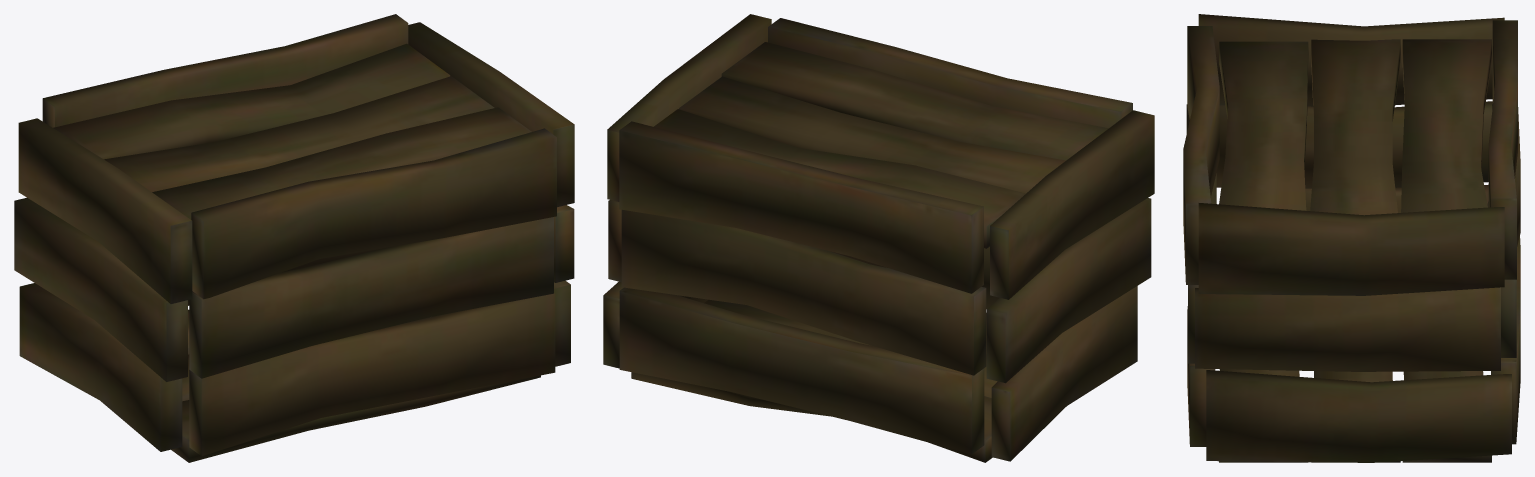
File: woodcrate.glb
3 renders of one model, left to right at view 1: azimuth 30°, elevation 25°; view 2: azimuth 150°, elevation 25°; view 3: azimuth 270°, elevation 25°, orthographic. The views are drawn at different scales.
Parts seen in each view (by area): view 1: SM_WoodCrate; view 2: SM_WoodCrate; view 3: SM_WoodCrate.
Part boxes in pixels (left/top/right/bottom): SM_WoodCrate: left=14, top=14, right=574, bottom=462; SM_WoodCrate: left=603, top=14, right=1154, bottom=462; SM_WoodCrate: left=1183, top=14, right=1520, bottom=462.
Bounding box in the file's own units: 0.6496 × 0.3912 × 0.4467.
1 material, 1 textured.
